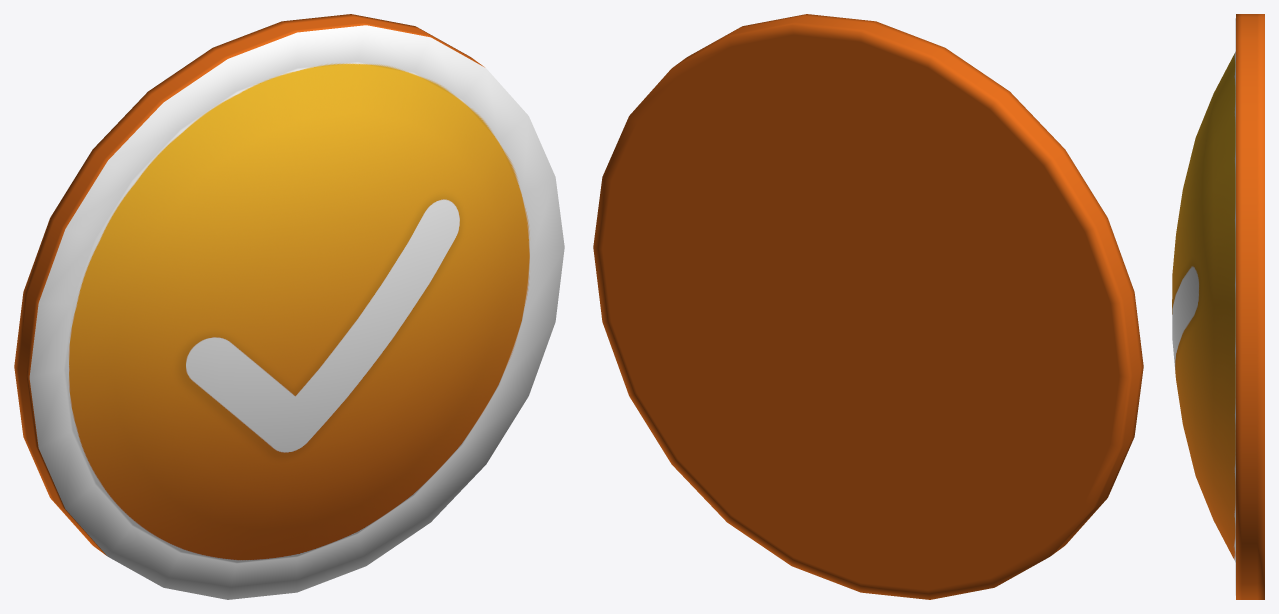
Rendered from 3d check button.fbx.
The picture shows the model from 3 angles, left to right: view 1: azimuth 30°, elevation 25°; view 2: azimuth 150°, elevation 25°; view 3: azimuth 270°, elevation 25°; orthographic projection. The views are drawn at different scales.
Parts seen in each view (by area): view 1: B 1; view 2: B 1; view 3: B 1.
Part boxes in pixels (x1,y1,x2,y2): B 1: [14, 14, 564, 599]; B 1: [593, 14, 1143, 599]; B 1: [1172, 14, 1264, 599].
Size of the model in its own units: 19.38 by 19.38 by 3.06.
1 material, 1 textured.
